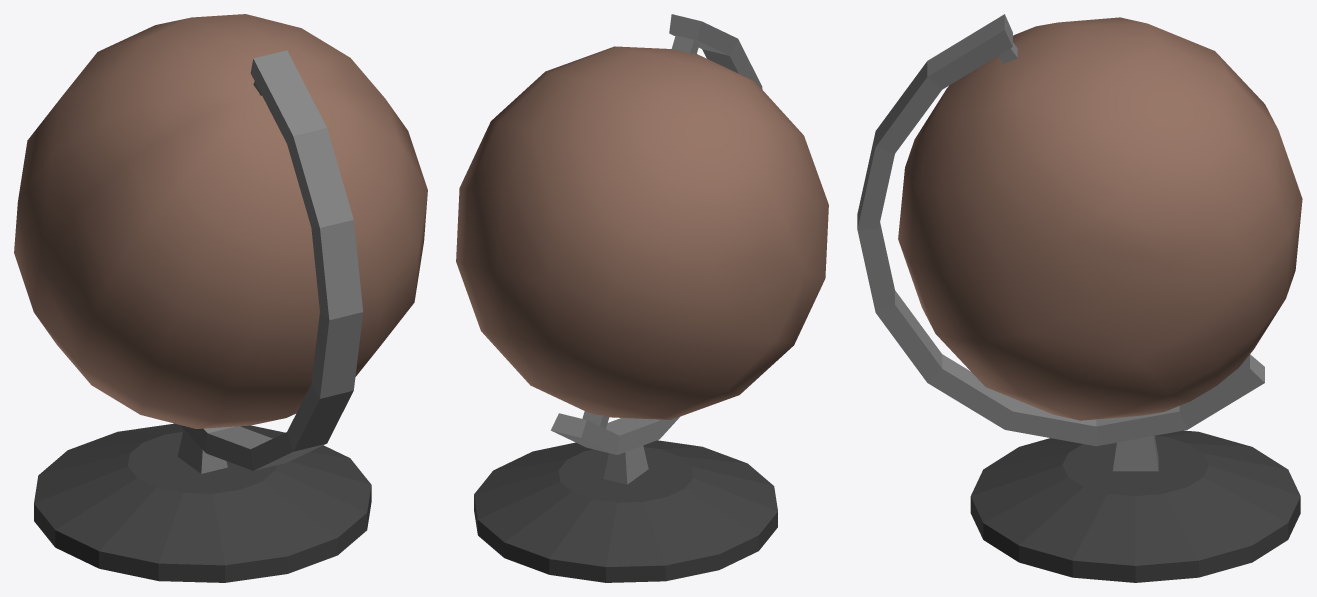
The model's file is Globe.fbx.
The picture shows the model from 3 angles, left to right: view 1: azimuth 30°, elevation 25°; view 2: azimuth 150°, elevation 25°; view 3: azimuth 270°, elevation 25°; orthographic projection. The views are drawn at different scales.
Parts seen in each view (by area): view 1: Globe; view 2: Globe; view 3: Globe.
Boxes of the visible parts, <box> form: Globe: <box>14,14,427,582</box>; Globe: <box>456,14,828,582</box>; Globe: <box>857,14,1302,582</box>.
Size of the model in its own units: 22.52 by 29.99 by 24.63.
